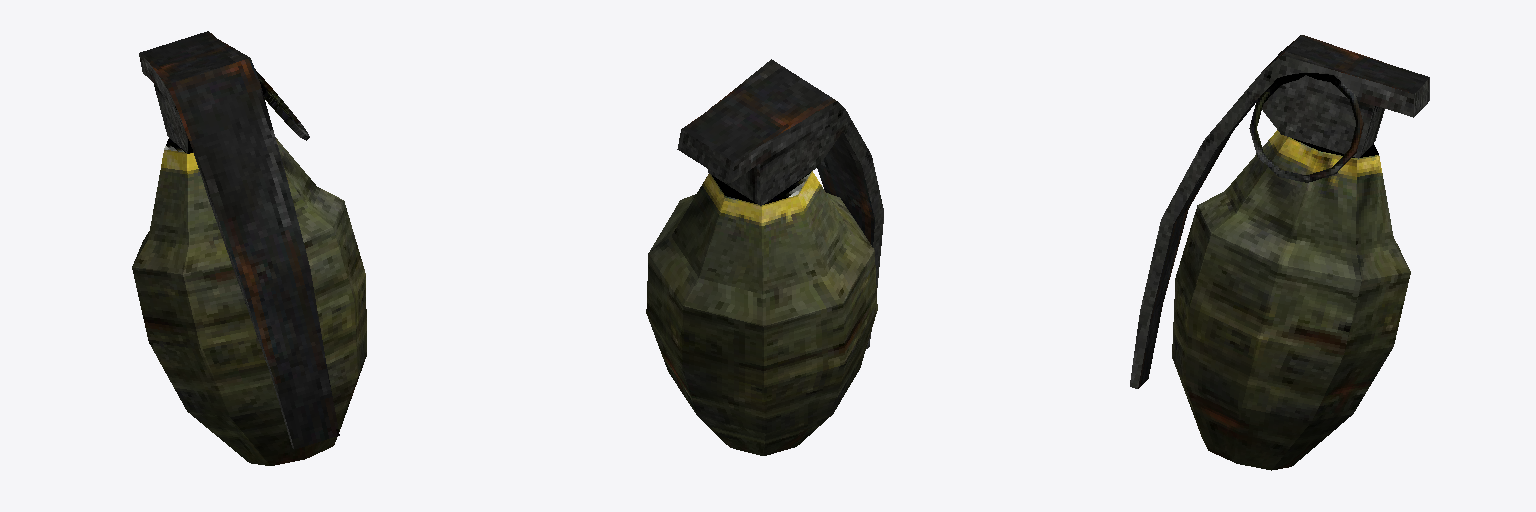
3 views of the same model, side by side, from view 1: azimuth 30°, elevation 25°; view 2: azimuth 150°, elevation 25°; view 3: azimuth 270°, elevation 25° (orthographic).
Parts seen in each view (by area): view 1: grenade; view 2: grenade; view 3: grenade.
Boxes of the visible parts, box(x1,y1,x2,y2) form: grenade: box(132, 31, 366, 465); grenade: box(646, 59, 883, 455); grenade: box(1130, 35, 1429, 470).
Size of the model in its own units: 0.7179 by 1.37 by 0.9402.
Materials: 1 (1 with a texture image).